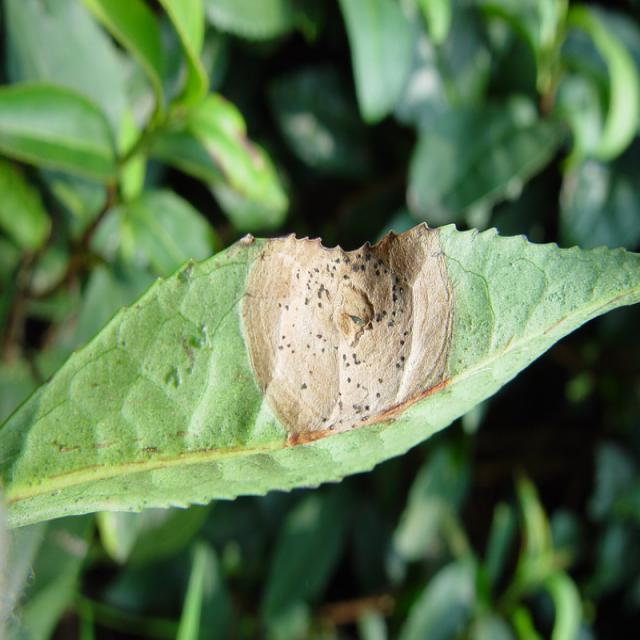Tea cloud leaf blight: (245, 220, 451, 432)
